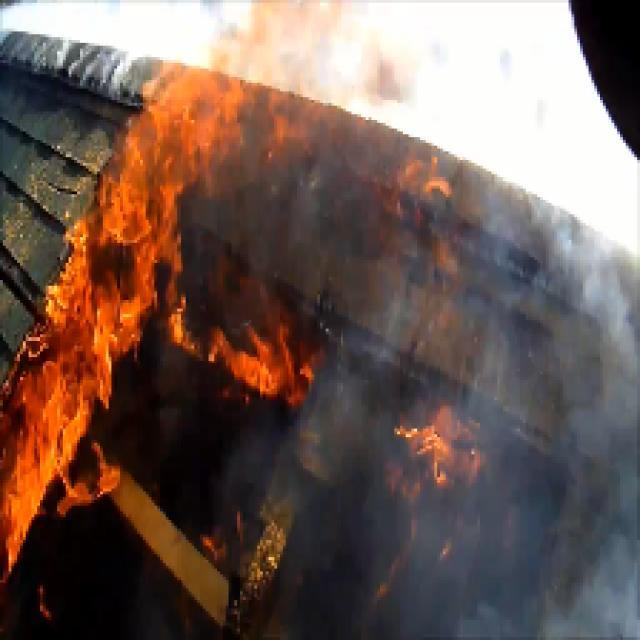Fire: (67, 210, 132, 363), (3, 374, 78, 502), (130, 105, 184, 209)
Smoke: (511, 526, 640, 638), (545, 402, 640, 522)
